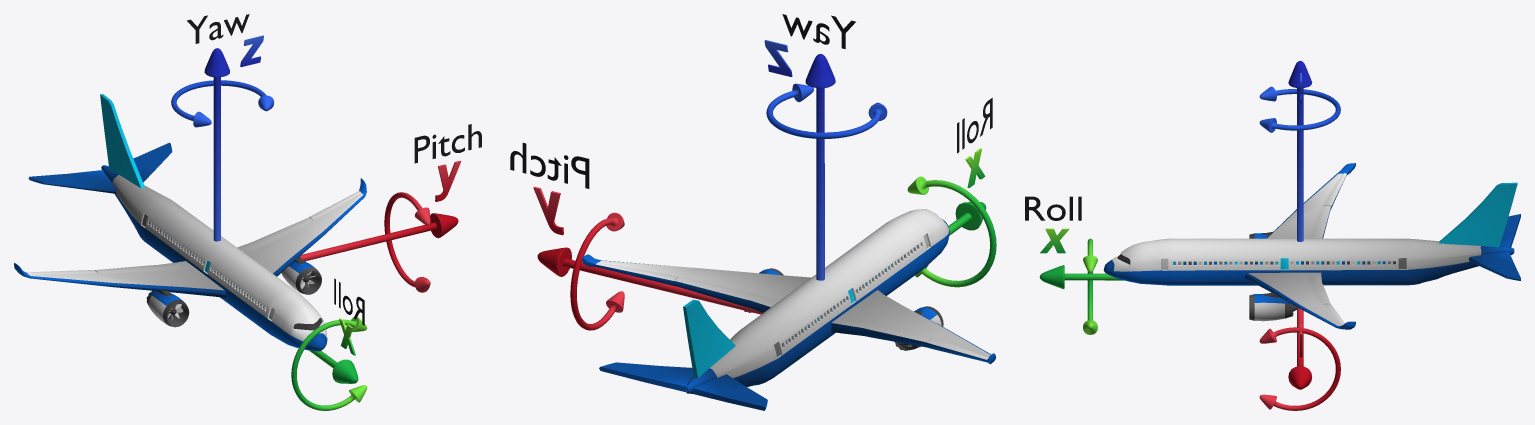
3 renders of one model, left to right at view 1: azimuth 30°, elevation 25°; view 2: azimuth 150°, elevation 25°; view 3: azimuth 270°, elevation 25°, orthographic. The views are drawn at different scales.
Visible parts, largest first — view 1: Ariplane, AxisMini_Color, RotationArrow_Roll, RotationArrow_Pitch, RotationArrow_Yaw, Text_Pitch, Text_Yaw; view 2: Ariplane, AxisMini_Color, RotationArrow_Roll, RotationArrow_Pitch, RotationArrow_Yaw, Text_Pitch, Text_Yaw, Text_Roll; view 3: Ariplane, AxisMini_Color, RotationArrow_Pitch, RotationArrow_Yaw, RotationArrow_Roll, Text_Roll.
Boxes of the visible parts, <box> form: Ariplane: <box>14,94,366,351</box>; AxisMini_Color: <box>204,35,461,383</box>; RotationArrow_Roll: <box>291,317,367,410</box>; RotationArrow_Pitch: <box>384,192,430,292</box>; RotationArrow_Yaw: <box>171,80,274,127</box>; Text_Pitch: <box>414,124,481,163</box>; Text_Yaw: <box>187,14,249,43</box>; Ariplane: <box>582,209,995,410</box>; AxisMini_Color: <box>533,40,986,314</box>; RotationArrow_Roll: <box>907,176,996,287</box>; RotationArrow_Pitch: <box>570,212,624,330</box>; RotationArrow_Yaw: <box>766,83,887,138</box>; Text_Pitch: <box>510,143,589,188</box>; Text_Yaw: <box>782,14,855,49</box>; Text_Roll: <box>957,97,992,153</box>; Ariplane: <box>1103,163,1520,329</box>; AxisMini_Color: <box>1039,60,1312,389</box>; RotationArrow_Pitch: <box>1259,327,1340,410</box>; RotationArrow_Yaw: <box>1259,86,1340,132</box>; RotationArrow_Roll: <box>1083,238,1097,334</box>; Text_Roll: <box>1025,196,1081,220</box>.
Size of the model in its own units: 158 by 109 by 165.
